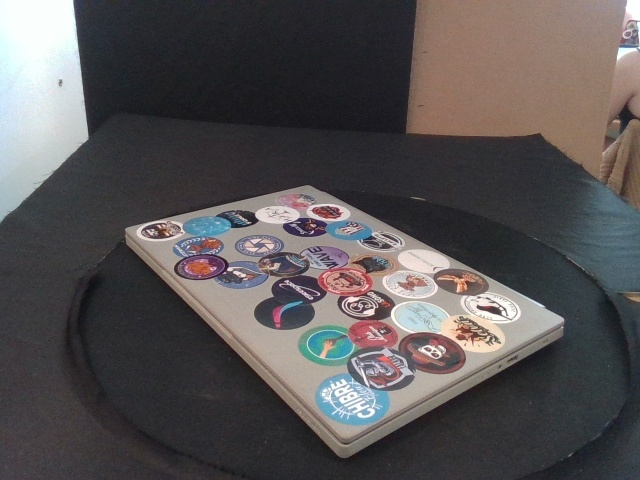laptop: (124, 184, 564, 460)
